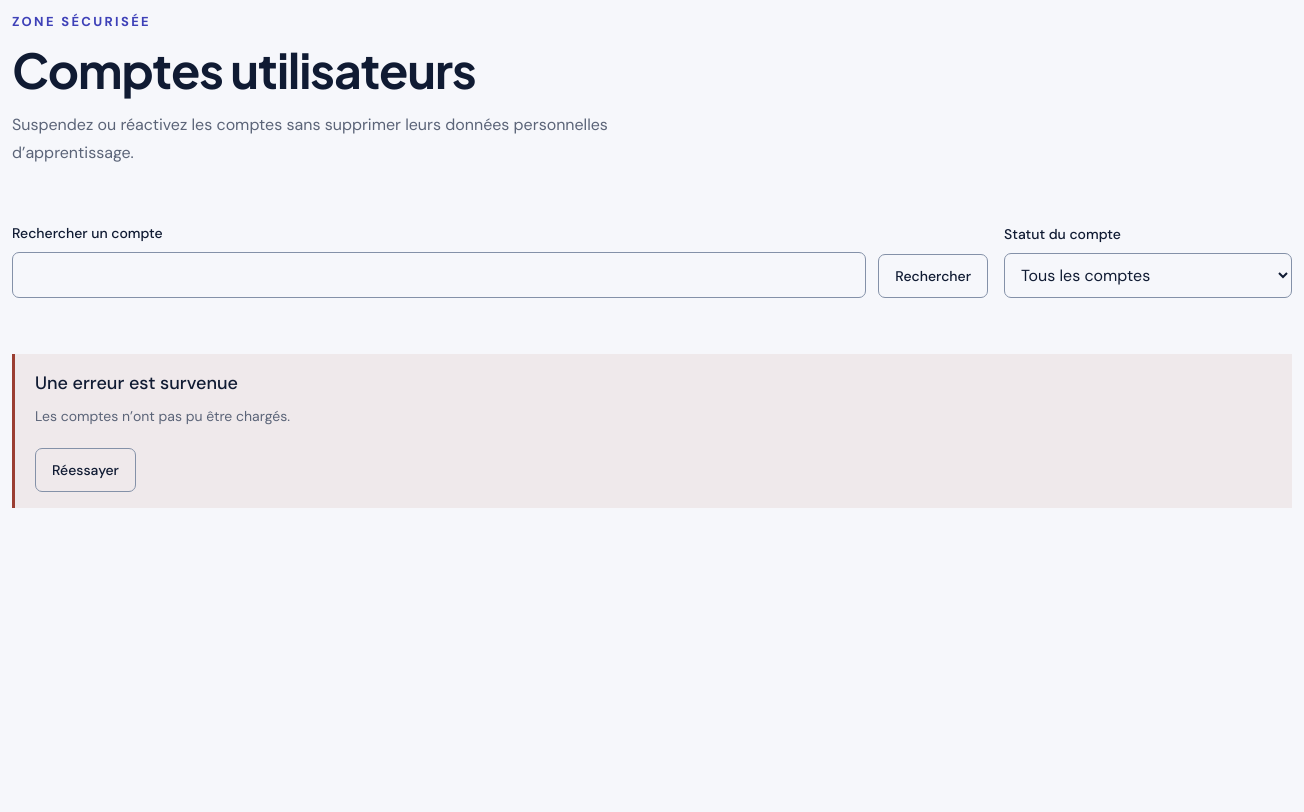
Test: AdminAccountsPage › permet de réessayer une liste indisponible sans perdre le contrôle de session
Expected: the text "Les comptes n’ont pas pu être chargés." is shown, [35,407,290,425]
Click the button "Réessayer": (86, 470) [35,448,136,492]
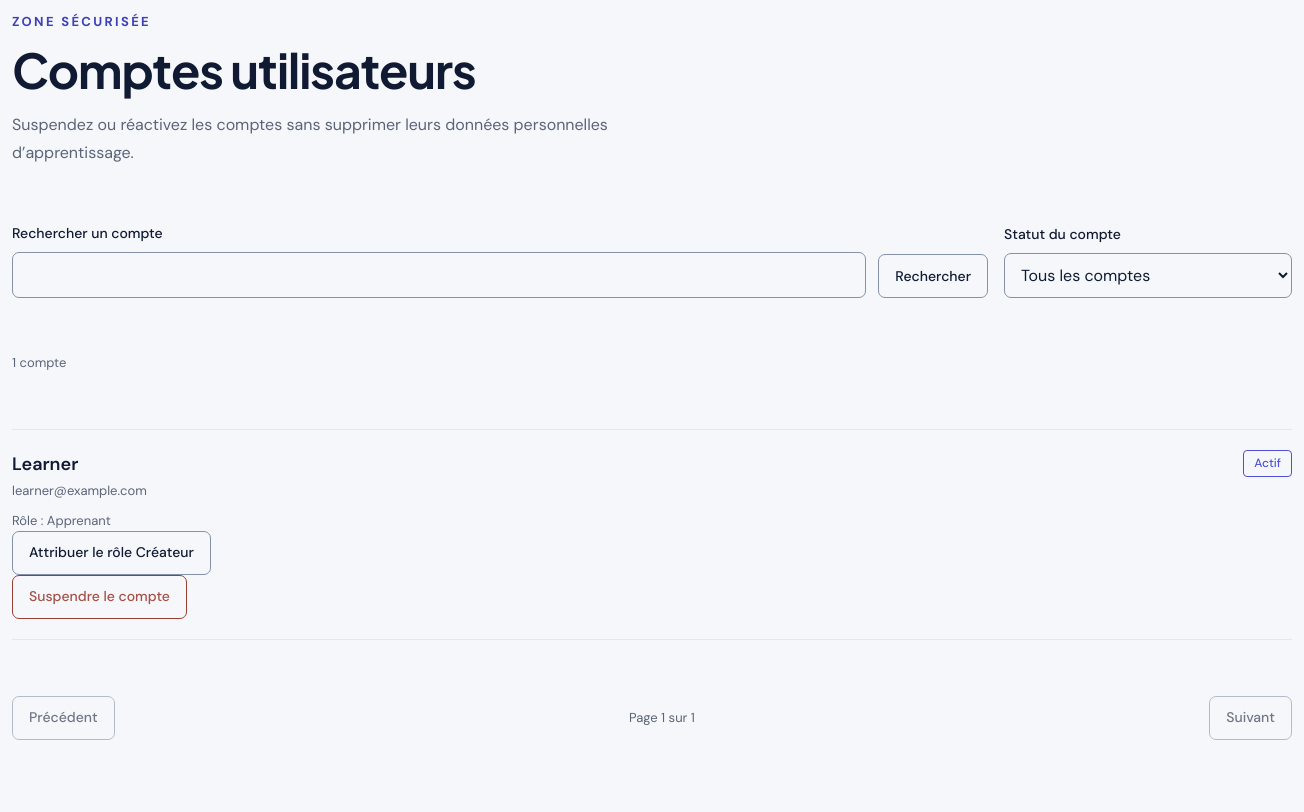
Now the text "learner@example.com" is shown, box [12,482,147,500]
